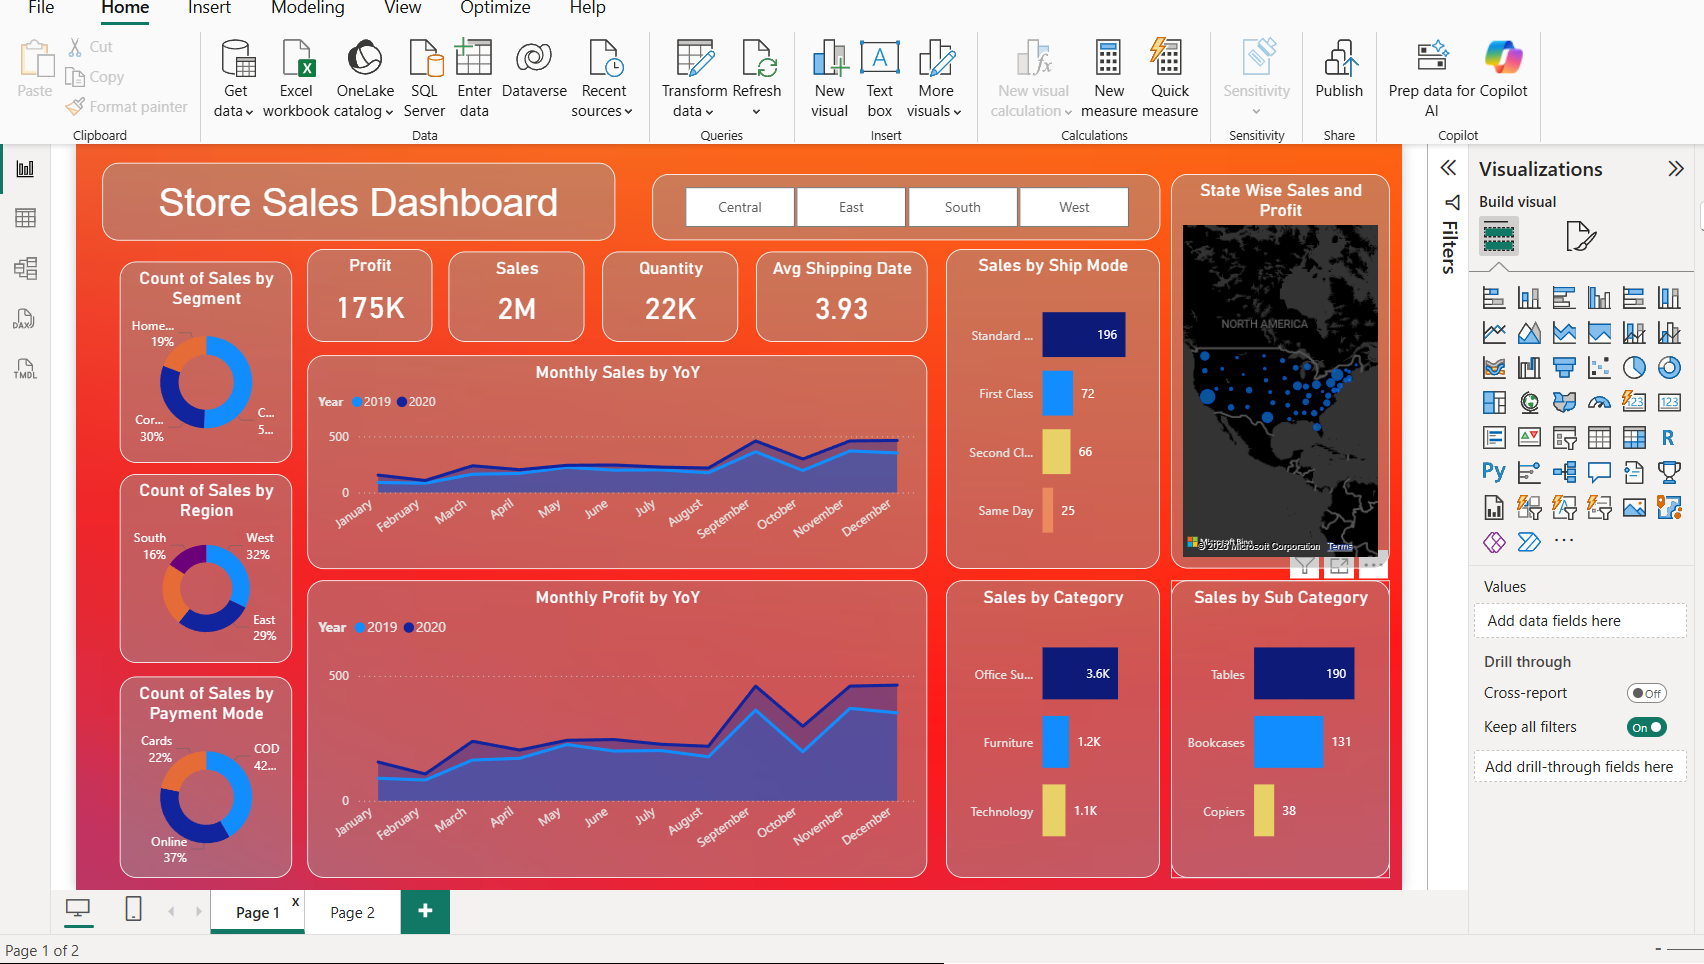

Layout of this report page (visuals, bound fields, positions):
{"tool":"powerbi","page":{"name":"Page 1","canvas":[1280,720],"ordinal":0},"visuals":[{"type":"clusteredBarChart","title":"Sales by Category","fields":{"Category":["SuperStore_Sales_Dataset (1).Category"],"Y":["CountNonNull(SuperStore_Sales_Dataset (1).Sales)"]},"box":[839.7,421,206.3,287.1],"z":0},{"type":"clusteredBarChart","title":"Sales by Sub Category","fields":{"Category":["SuperStore_Sales_Dataset (1).Sub-Category"],"Y":["CountNonNull(SuperStore_Sales_Dataset (1).Sales)"]},"box":[1056.8,421,211.1,287.1],"z":1000},{"type":"clusteredBarChart","title":"Sales by Ship Mode","fields":{"Category":["SuperStore_Sales_Dataset (1).Ship Mode"],"Y":["CountNonNull(SuperStore_Sales_Dataset (1).Sales)"]},"box":[840,101,206,309],"z":2000},{"type":"areaChart","title":"Monthly Sales by YoY","fields":{"Y":["CountNonNull(SuperStore_Sales_Dataset (1).Sales)"],"Category":["SuperStore_Sales_Dataset (1).Order Date.Variation.Date Hierarchy.Month","SuperStore_Sales_Dataset (1).Order Date.Variation.Date Hierarchy.Day"],"Series":["SuperStore_Sales_Dataset (1).Order Date.Variation.Date Hierarchy.Year"]},"box":[223.2,203.9,598.4,206.3],"z":3000},{"type":"areaChart","title":"Monthly Profit by YoY","fields":{"Category":["SuperStore_Sales_Dataset (1).Order Date.Variation.Date Hierarchy.Month","SuperStore_Sales_Dataset (1).Order Date.Variation.Date Hierarchy.Day"],"Series":["SuperStore_Sales_Dataset (1).Order Date.Variation.Date Hierarchy.Year"],"Y":["CountNonNull(SuperStore_Sales_Dataset (1).Profit)"]},"box":[223.2,421,598.4,287.1],"z":4000},{"type":"map","title":"State Wise Sales and Profit","fields":{"Category":["SuperStore_Sales_Dataset (1).State"],"Size":["CountNonNull(SuperStore_Sales_Dataset (1).Sales)"]},"box":[1057,29,211,381],"z":5000},{"type":"donutChart","fields":{"Category":["SuperStore_Sales_Dataset (1).Segment"],"Y":["CountNonNull(SuperStore_Sales_Dataset (1).Sales)"]},"box":[42.2,113.4,166.5,194.2],"z":6000},{"type":"donutChart","fields":{"Category":["SuperStore_Sales_Dataset (1).Payment Mode"],"Y":["CountNonNull(SuperStore_Sales_Dataset (1).Sales)"]},"box":[42.2,513.9,166.5,194.2],"z":7000},{"type":"slicer","fields":{"Values":["SuperStore_Sales_Dataset (1).Region"]},"box":[556,29,490,64],"z":8000},{"type":"textbox","box":[25,18,495,75],"z":9000},{"type":"card","title":"Profit","fields":{"Values":["Sum(SuperStore_Sales_Dataset (1).Profit)"]},"box":[223.2,101.3,120.6,89.3],"z":10000},{"type":"card","title":"Sales","fields":{"Values":["Sum(SuperStore_Sales_Dataset (1).Sales)"]},"box":[359.5,103.8,131.5,86.9],"z":11000},{"type":"card","title":"Quantity","fields":{"Values":["Sum(SuperStore_Sales_Dataset (1).Quantity)"]},"box":[507.9,103.8,131.5,86.9],"z":12000},{"type":"card","title":"Avg Shipping Date","fields":{"Values":["Avg(SuperStore_Sales_Dataset (1).avgdelivery)"]},"box":[656.3,103.8,165.3,86.9],"z":13000},{"type":"donutChart","fields":{"Category":["SuperStore_Sales_Dataset (1).Region"],"Y":["CountNonNull(SuperStore_Sales_Dataset (1).Sales)"]},"box":[42.2,318.5,166.5,182.2],"z":14000}]}

Visuals, with their boxes on the page's 1280x720 design canvas (x1, y1, x2, y2). These are canvas units, not pixel positions in the 1704x964 screenshot, which may show the page scaled, cropped or inside an application window:
"Sales by Category" clusteredBarChart: BBox(840, 421, 1046, 708)
"Sales by Sub Category" clusteredBarChart: BBox(1057, 421, 1268, 708)
"Sales by Ship Mode" clusteredBarChart: BBox(840, 101, 1046, 410)
"Monthly Sales by YoY" areaChart: BBox(223, 204, 822, 410)
"Monthly Profit by YoY" areaChart: BBox(223, 421, 822, 708)
"State Wise Sales and Profit" map: BBox(1057, 29, 1268, 410)
donutChart - SuperStore_Sales_Dataset (1).Segment x CountNonNull(SuperStore_Sales_Dataset (1).Sales): BBox(42, 113, 209, 308)
donutChart - SuperStore_Sales_Dataset (1).Payment Mode x CountNonNull(SuperStore_Sales_Dataset (1).Sales): BBox(42, 514, 209, 708)
slicer - SuperStore_Sales_Dataset (1).Region: BBox(556, 29, 1046, 93)
textbox: BBox(25, 18, 520, 93)
"Profit" card: BBox(223, 101, 344, 191)
"Sales" card: BBox(360, 104, 491, 191)
"Quantity" card: BBox(508, 104, 639, 191)
"Avg Shipping Date" card: BBox(656, 104, 822, 191)
donutChart - SuperStore_Sales_Dataset (1).Region x CountNonNull(SuperStore_Sales_Dataset (1).Sales): BBox(42, 318, 209, 501)
